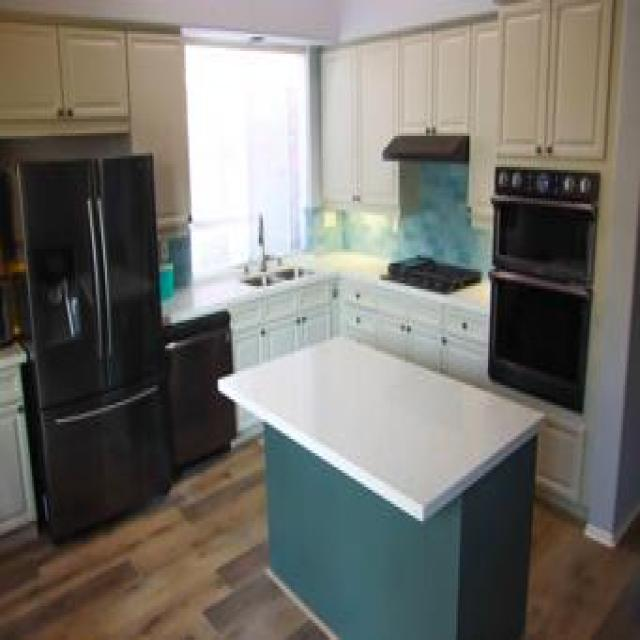dishwasher: (162, 312, 234, 464)
